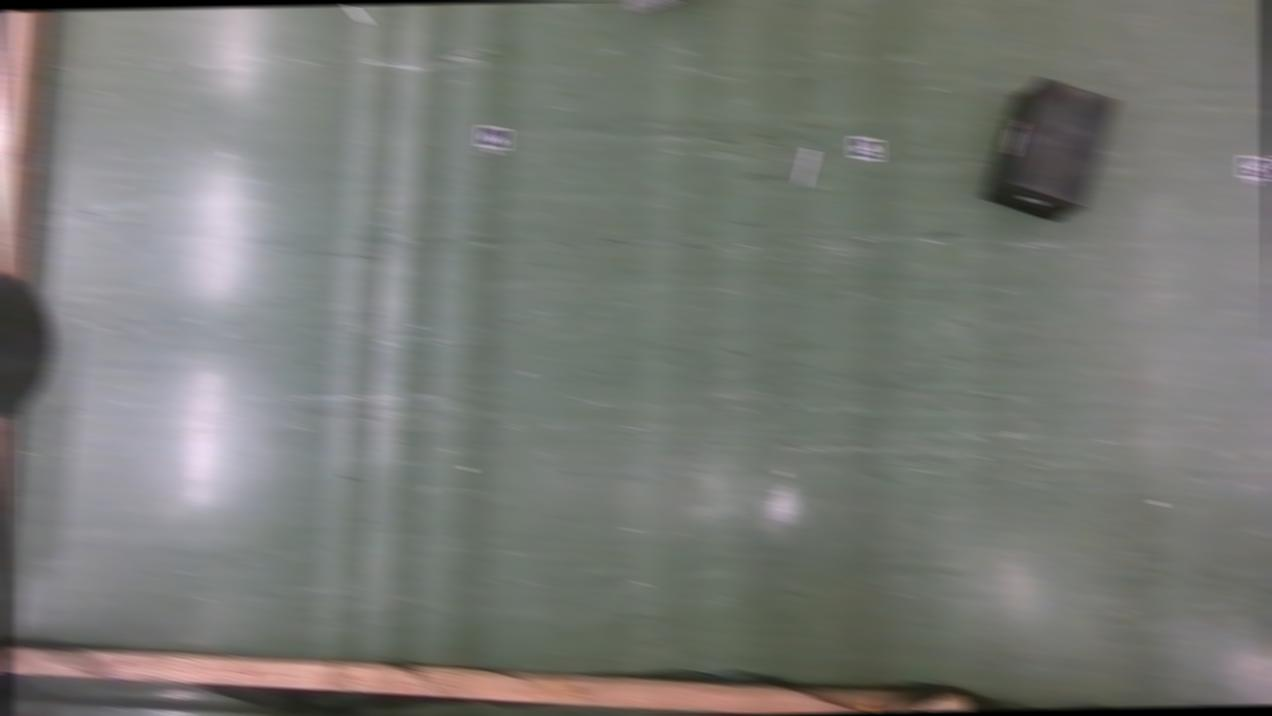probes: (796, 150, 817, 188), (342, 4, 368, 24)
rako: (979, 77, 1122, 225)
